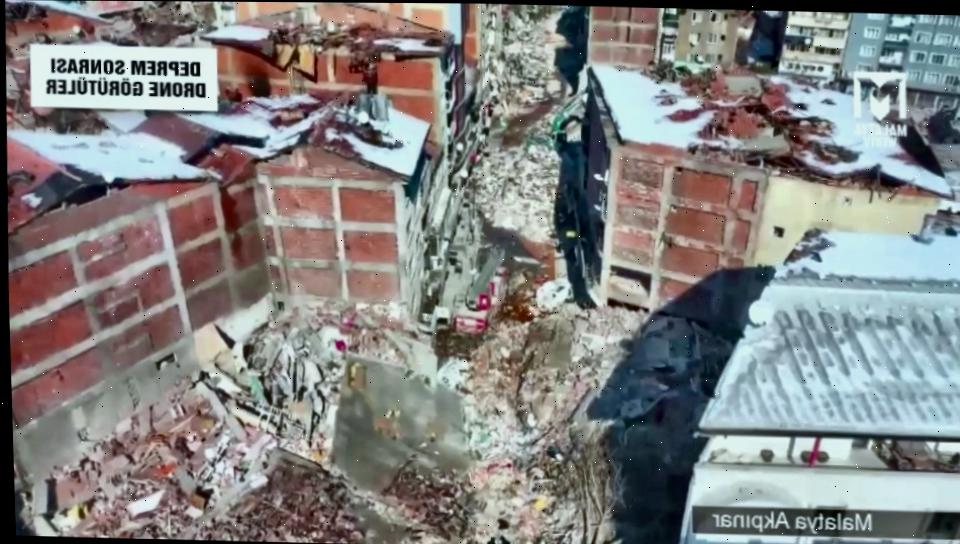kapali: (390, 276, 607, 544), (447, 124, 573, 266), (492, 20, 575, 127)
